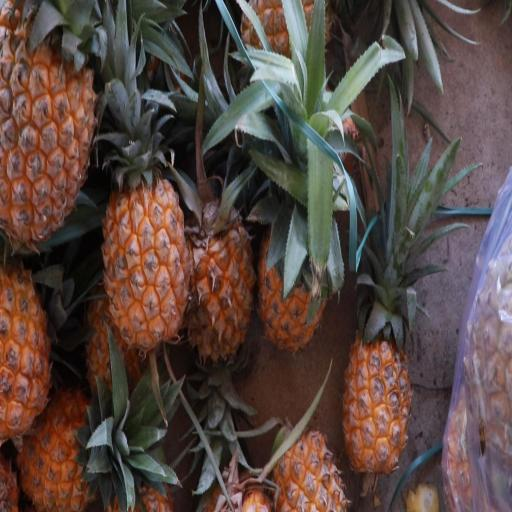Pineapple - v8 v1: (0, 0, 113, 257), (100, 159, 190, 360), (14, 382, 152, 510), (0, 256, 77, 443), (187, 175, 259, 371), (340, 298, 415, 478), (258, 184, 332, 359), (269, 411, 354, 512)
